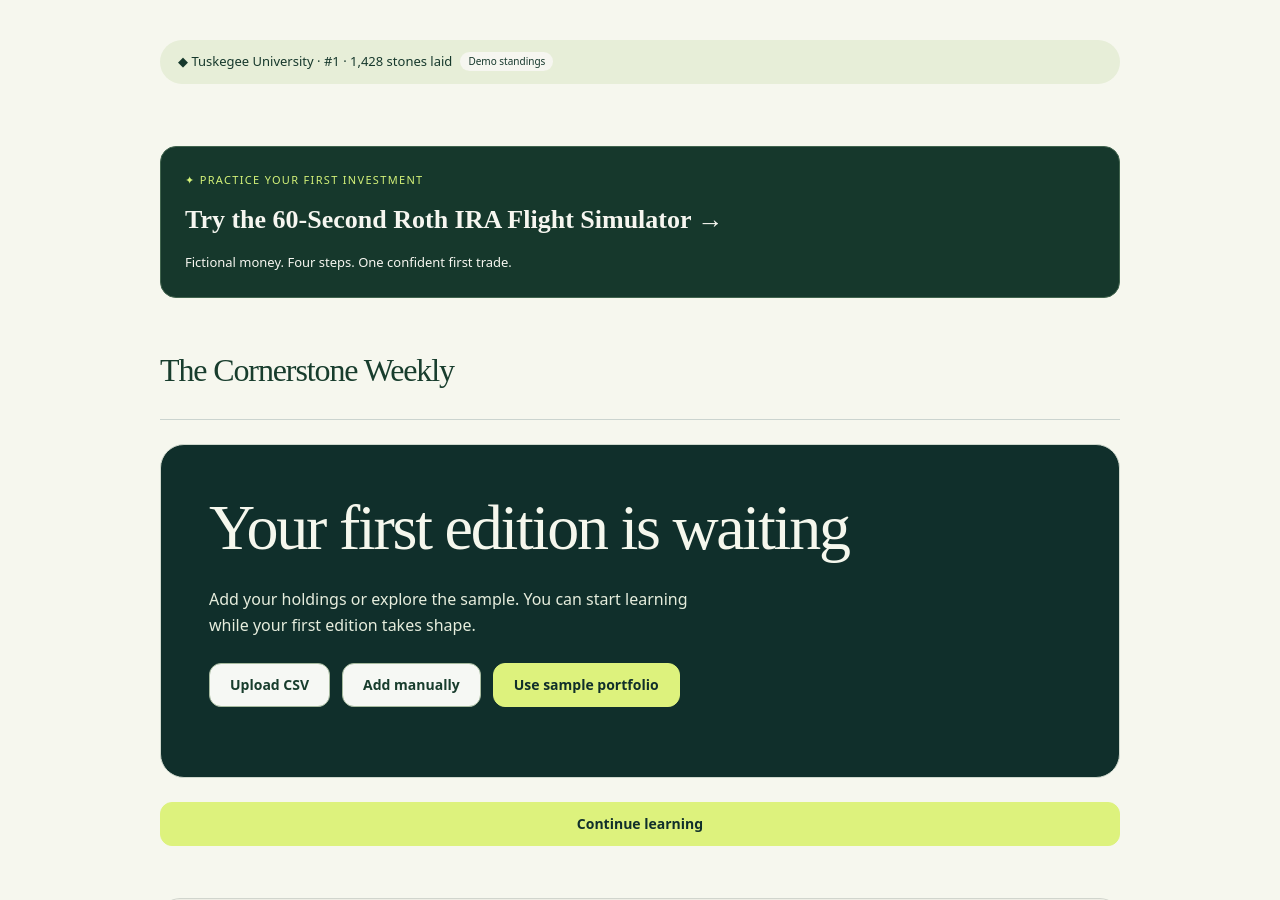
completes a related existing lesson, persists done for this week on reload, and sends no share counts to the price route
Later steps or results of the test are not shown.
Step 1. Click the button "Use sample portfolio" → [586, 685], box [493, 663, 680, 707]
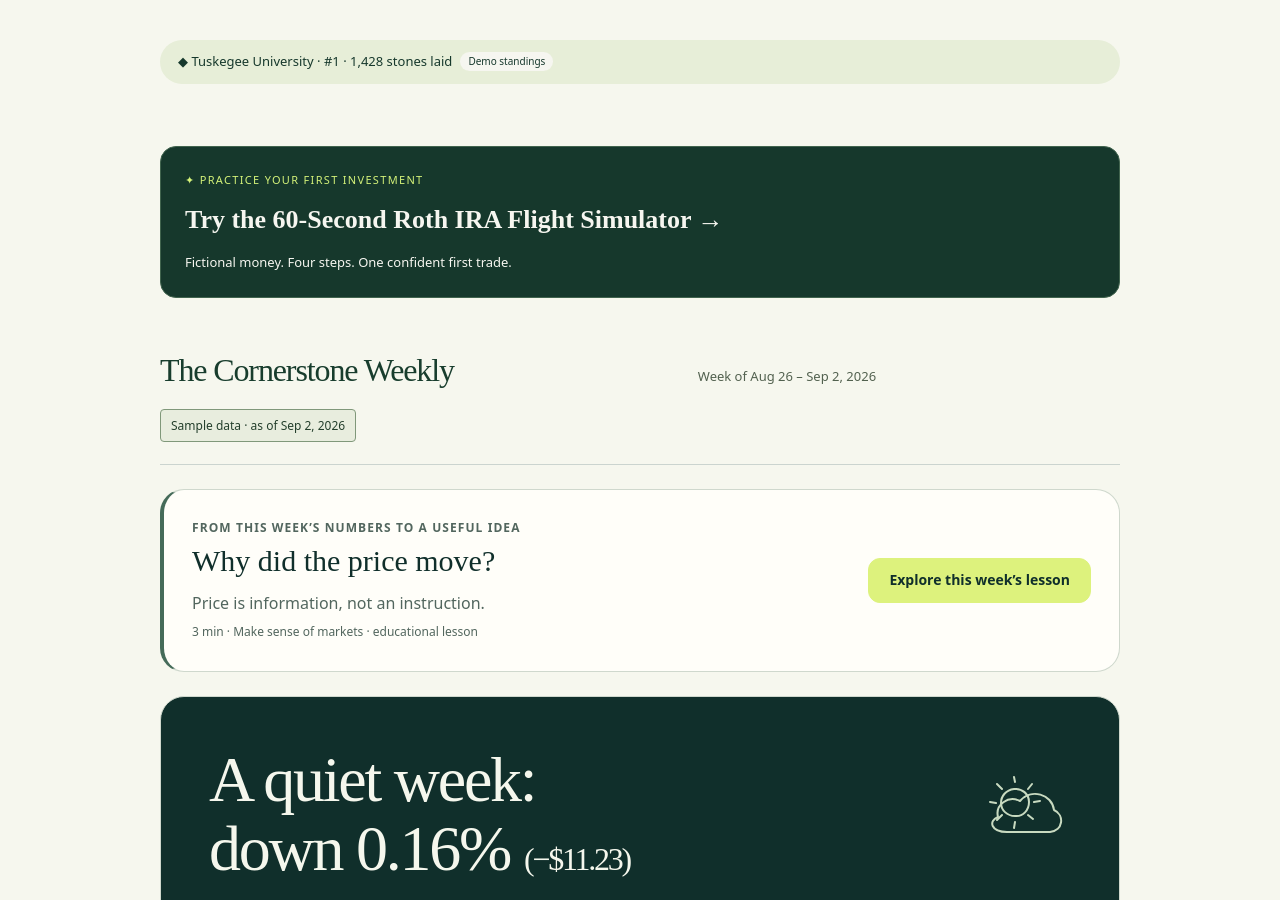
Expected: the text "Sample data · as of Sep 2, 2026" is shown, [160, 409, 356, 442]
